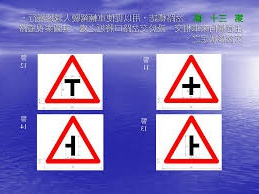Fork_road: (39, 113, 107, 165), (37, 51, 102, 105), (162, 53, 222, 107), (161, 114, 220, 168)
